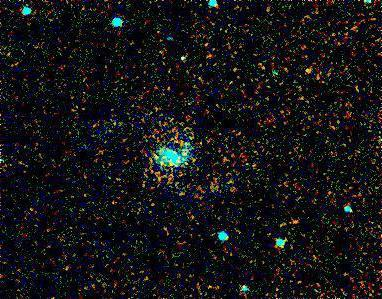star: (298, 56, 328, 86)
